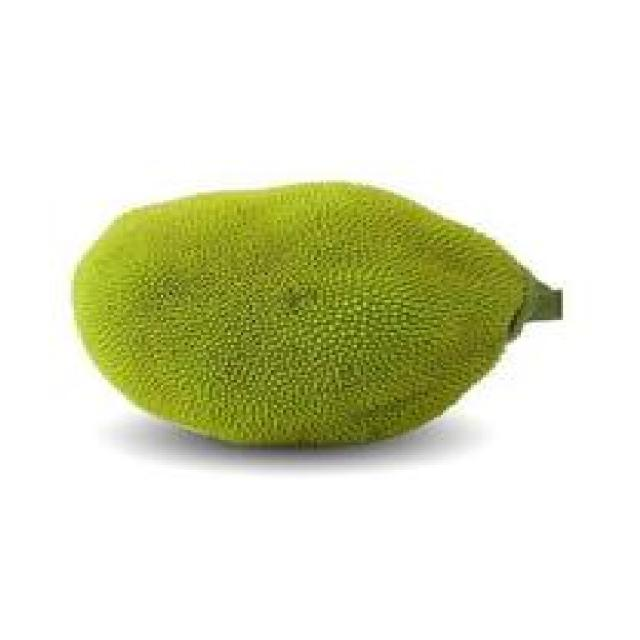Fruit: (148, 170, 550, 468)
